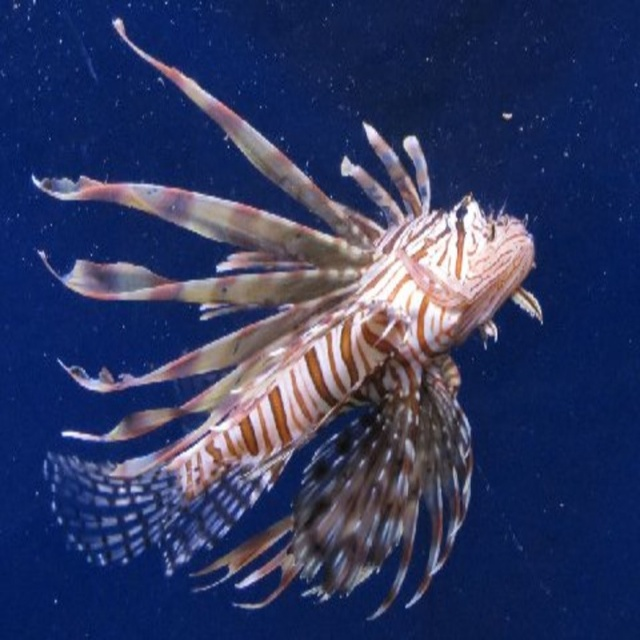Fish: (32, 18, 543, 621)
